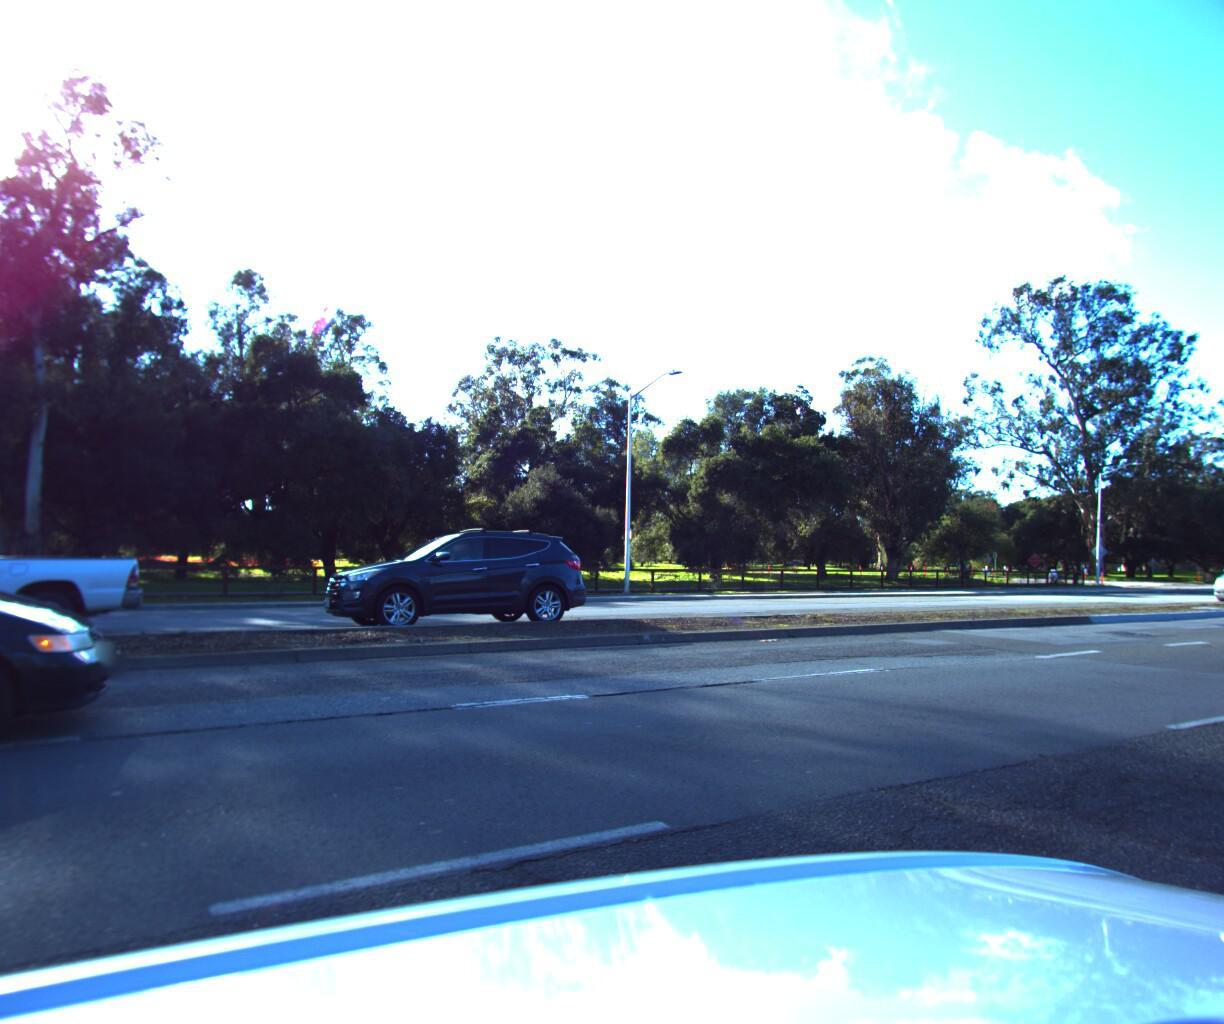car: (0, 413, 150, 846), (304, 513, 608, 634), (0, 496, 158, 659), (1200, 546, 1224, 595)
